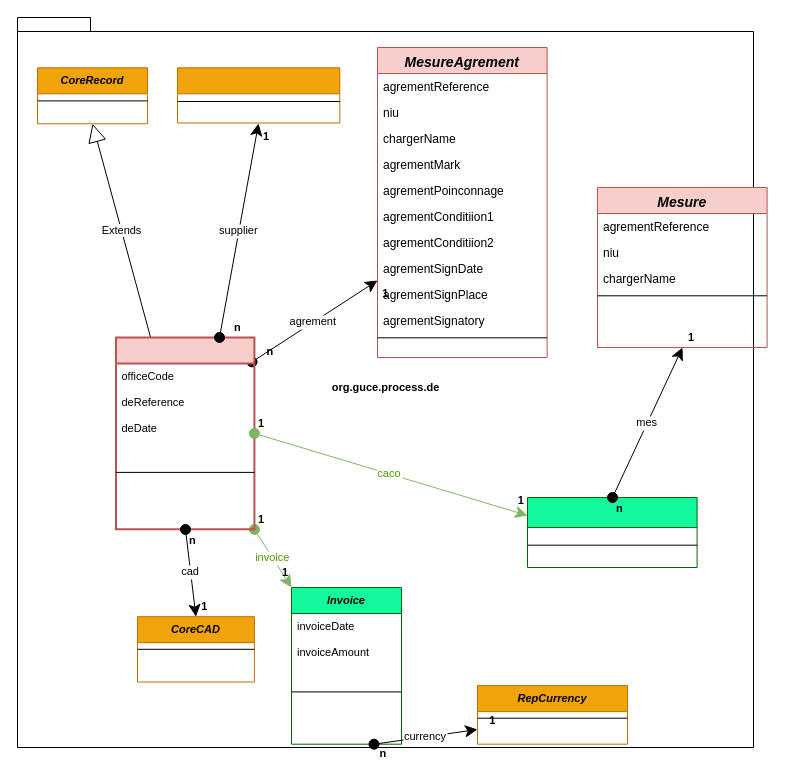
Image size: 785x781. Some labels were removed from this diagram. The shapes that lost their labels are listed below. From the top down, each one's box as (x1, y1, x2, y2) in pixels, then its label:
(176, 67, 340, 123): CoreCharger
(114, 336, 255, 530): DERegistration
(526, 496, 697, 568): Cacao
